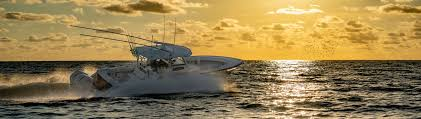boat: (67, 17, 245, 99)
